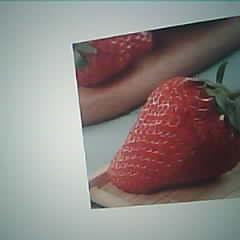straw-ripe: (110, 78, 238, 194)
